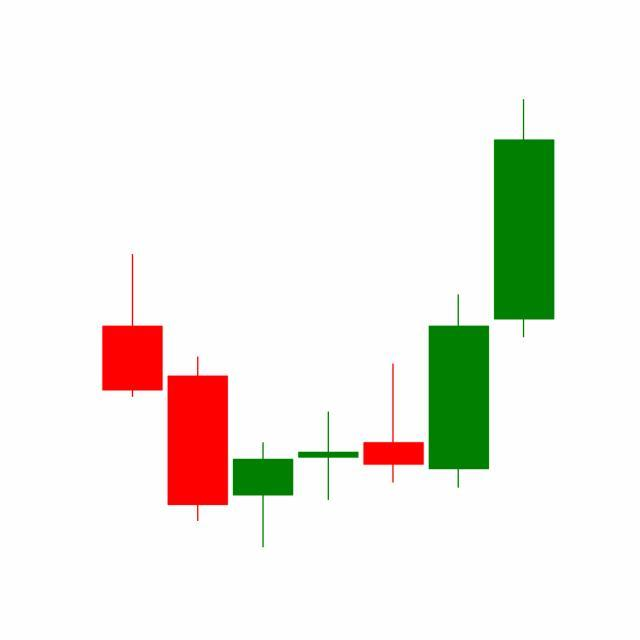Three Outside Up-Down: (360, 100, 556, 494)
